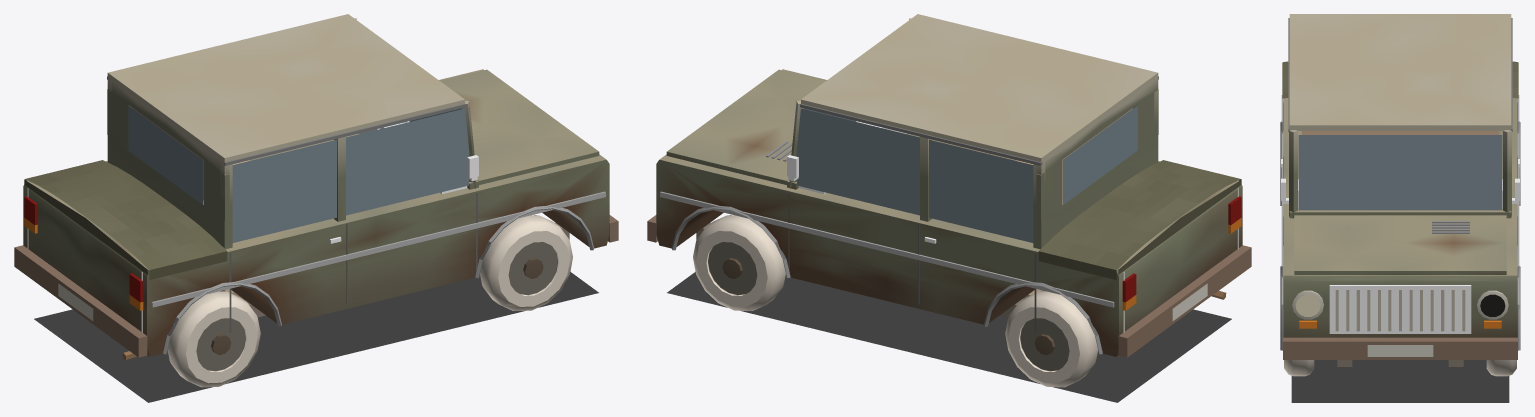
Rendered from sd_p4_vehiculos.glb.
3 renders of one model, left to right at view 1: azimuth 30°, elevation 25°; view 2: azimuth 150°, elevation 25°; view 3: azimuth 270°, elevation 25°, orthographic. The views are drawn at different scales.
Visible parts, largest first — view 1: car_wreck_a, car_wreck_b; view 2: car_wreck_a; view 3: car_wreck_a.
Boxes of the visible parts, left/top/right/bottom form: car_wreck_a: left=14, top=14, right=618, bottom=402; car_wreck_b: left=346, top=107, right=560, bottom=310; car_wreck_a: left=647, top=14, right=1251, bottom=402; car_wreck_a: left=1280, top=14, right=1520, bottom=402.
Size of the model in its own units: 4.16 by 1.88 by 1.9.
